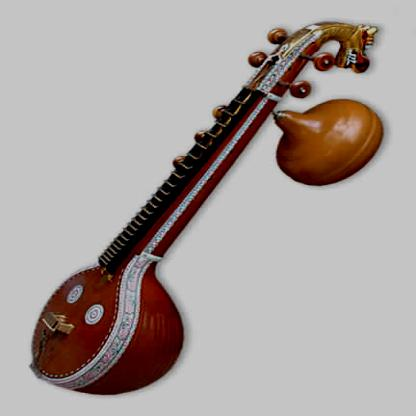Veena: (28, 90, 226, 398)
